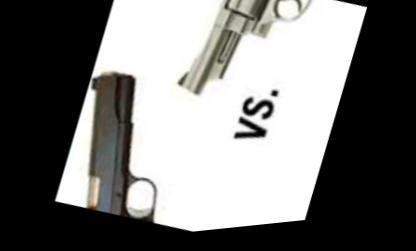pistol: (51, 54, 260, 245), (165, 0, 369, 148)
